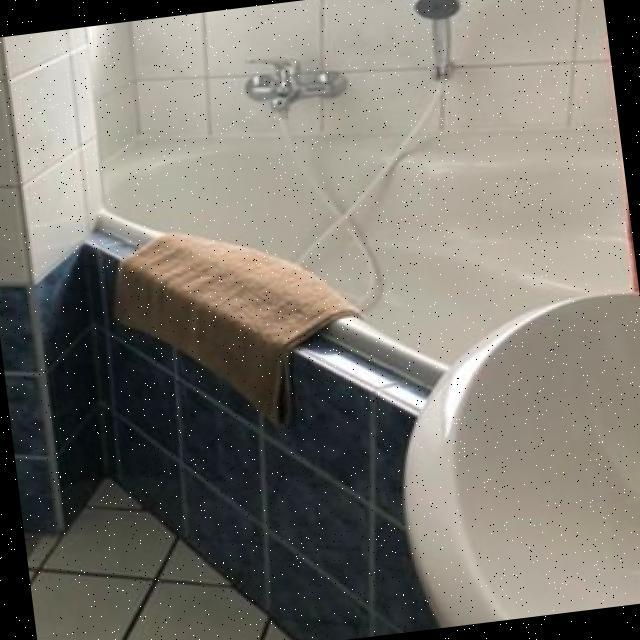bath: (76, 11, 640, 640)
wastafel: (378, 284, 640, 631)
